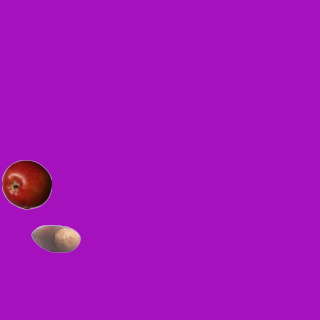Apple Braeburn: (1, 159, 51, 209)
Hazelnut: (30, 213, 80, 263)
